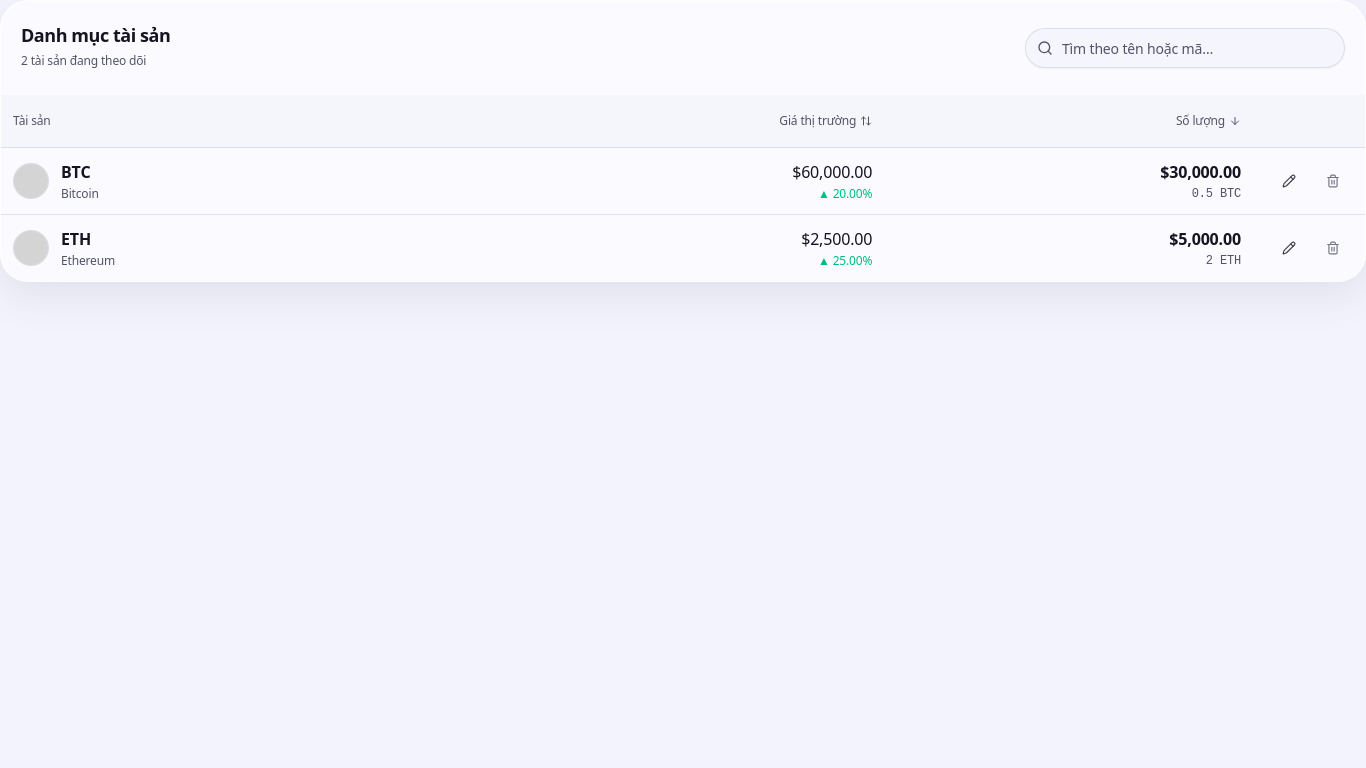
DashboardHoldingsTable › uses the accessible shadcn dialog for editing a holding note
Click the button named "Sửa ghi chú ETH" at (1289, 248), box [1269, 228, 1309, 268]
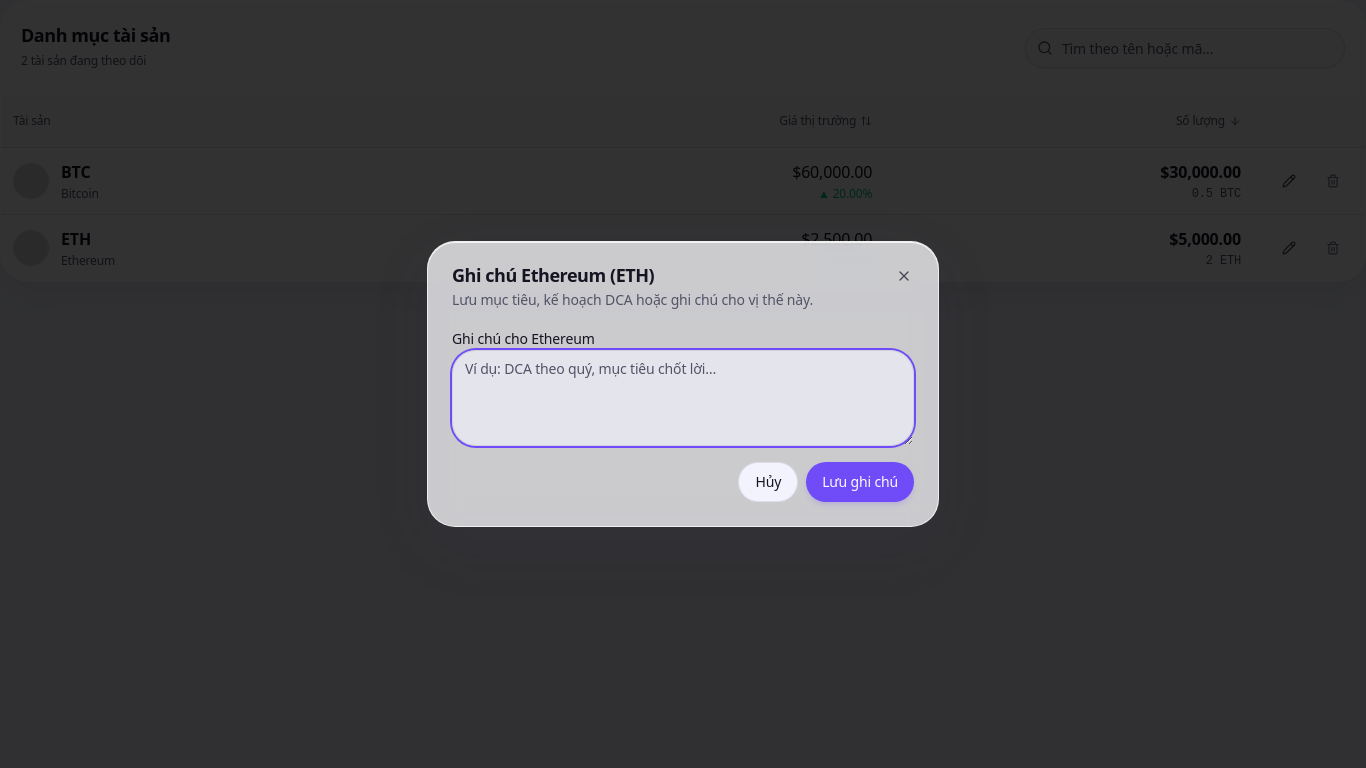
Result: the dialog "Ghi chú Ethereum (ETH)" is shown at [427, 241, 939, 527]
Result: the text box labelled "Ghi chú cho Ethereum" is shown at [452, 350, 914, 446]
